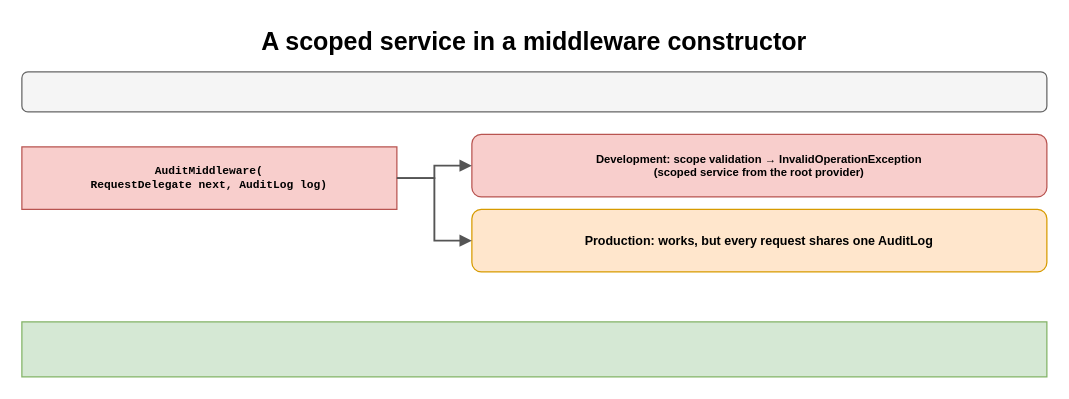
The diagram is 1069 pixels wide and 399 high, and some of its shapes have lost their labels. The centre of each missing label's shape, as x and y in pixels:
"fix: InvokeAsync(HttpContext context, AuditLog log)" belongs at pixel 534 349.
"Middleware is created once from the root provider" belongs at pixel 534 91.
